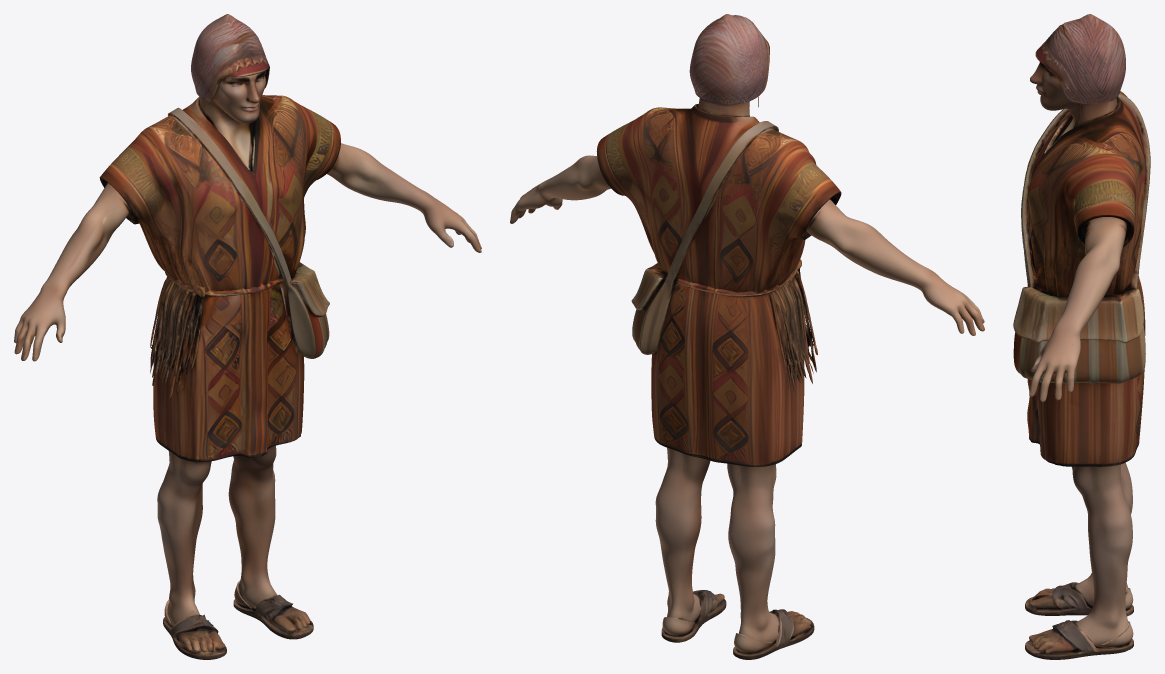
The model's file is Chasqui_Persona.glb.
The picture shows the model from 3 angles, left to right: view 1: azimuth 30°, elevation 25°; view 2: azimuth 150°, elevation 25°; view 3: azimuth 270°, elevation 25°; orthographic projection.
Parts seen in each view (by area): view 1: Chasqui_Persona; view 2: Chasqui_Persona; view 3: Chasqui_Persona.
Part boxes in pixels (box(x1,y1,x2,y2)): Chasqui_Persona: box(14, 14, 481, 659); Chasqui_Persona: box(510, 14, 984, 659); Chasqui_Persona: box(1013, 14, 1150, 659).
Size of the model in its own units: 1.44 by 1.83 by 0.3692.
Materials: 1 (1 with a texture image).
